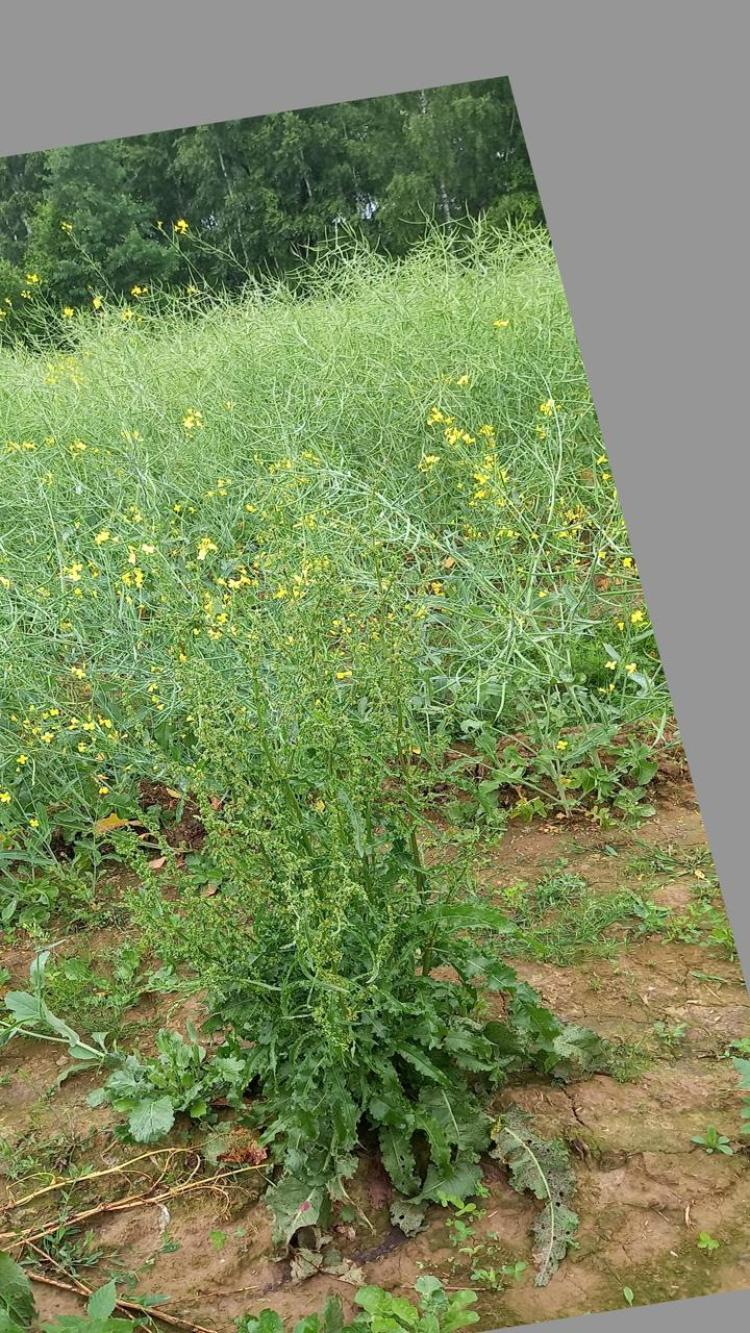zhavel: (114, 606, 614, 1264)
